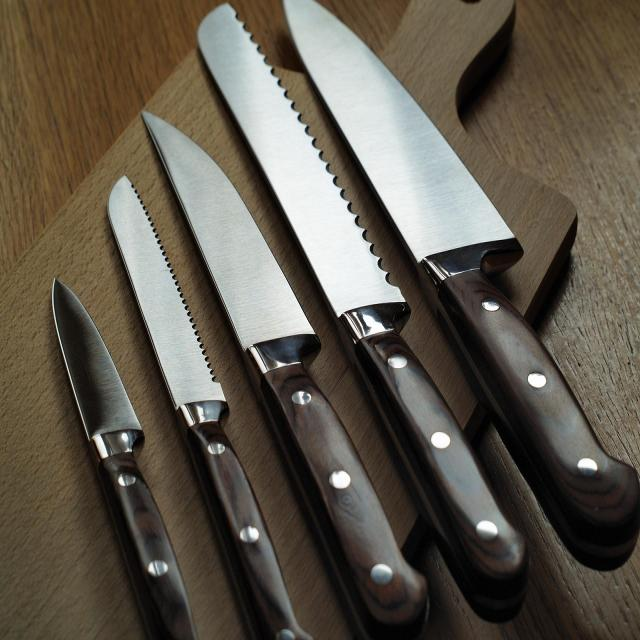Knife: (198, 4, 528, 620), (284, 0, 640, 568), (142, 111, 428, 639), (108, 175, 314, 639), (52, 279, 196, 639)
